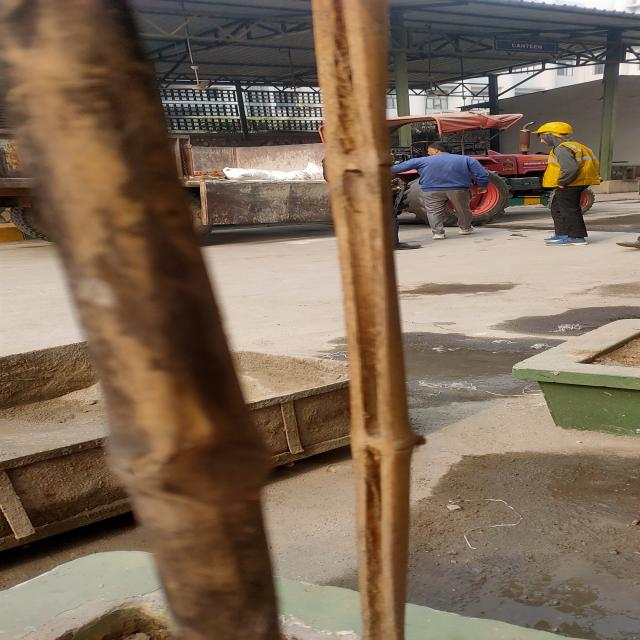safe: (531, 121, 606, 247)
unsafe: (395, 140, 490, 240)
